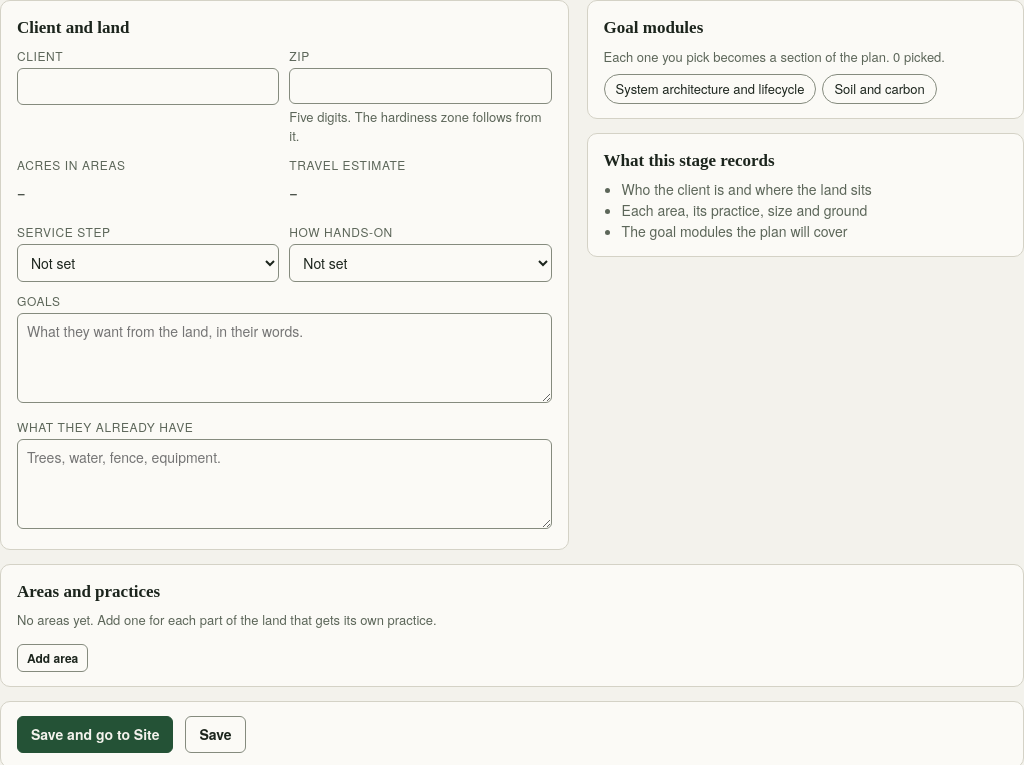
Test case: IntakeForm › keeps the entries when the save fails
The image size is (1024, 765).
Type "Sycamore Bend" into the field labelled "Client" at (148, 86), box left=17, top=68, right=279, bottom=104
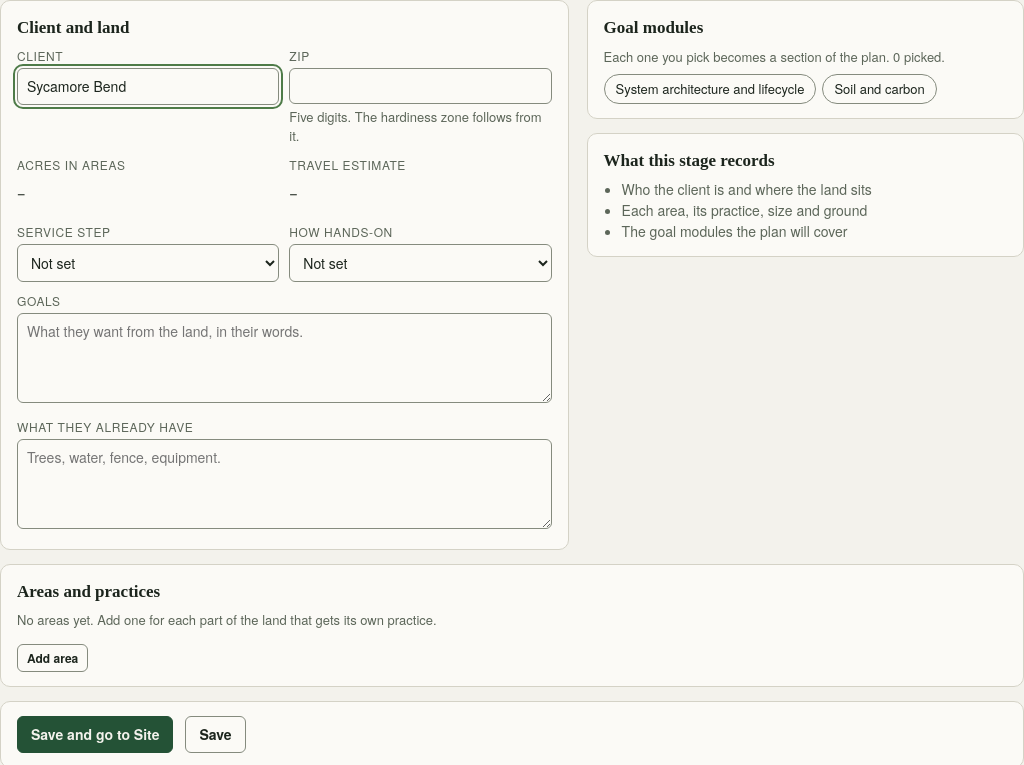
Click the button "Save" at (216, 734), box left=186, top=716, right=246, bottom=752
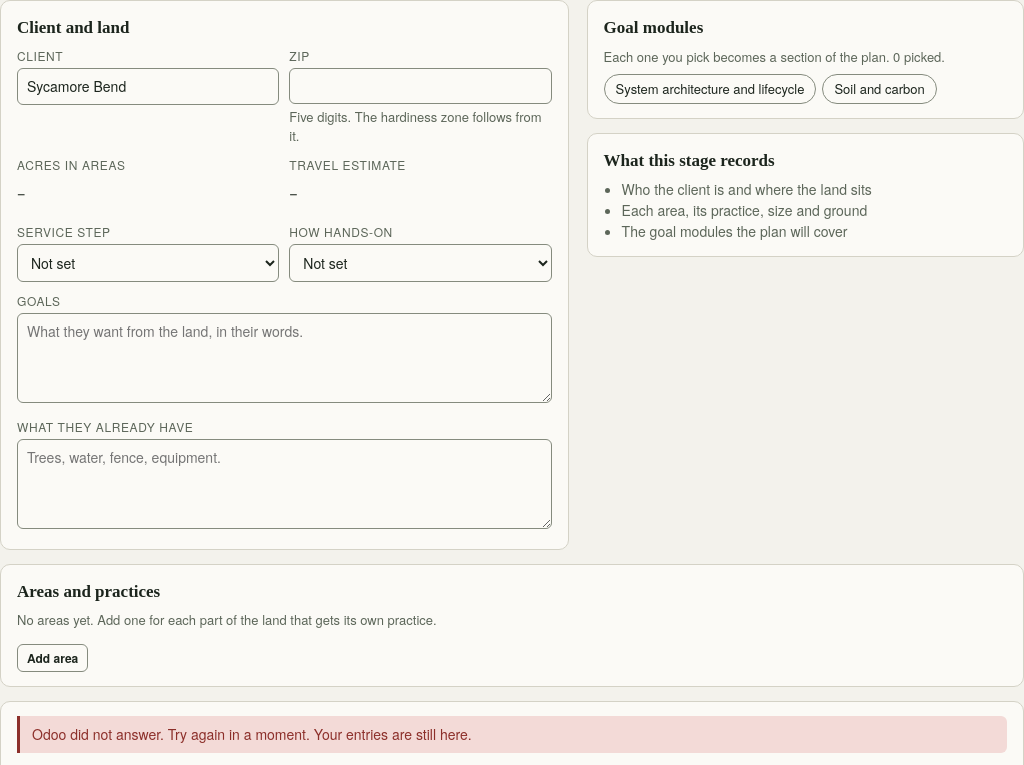
Check: the text "Odoo did not answer. Try again in a moment. Your entries are still here." is shown, box left=17, top=716, right=1007, bottom=752
